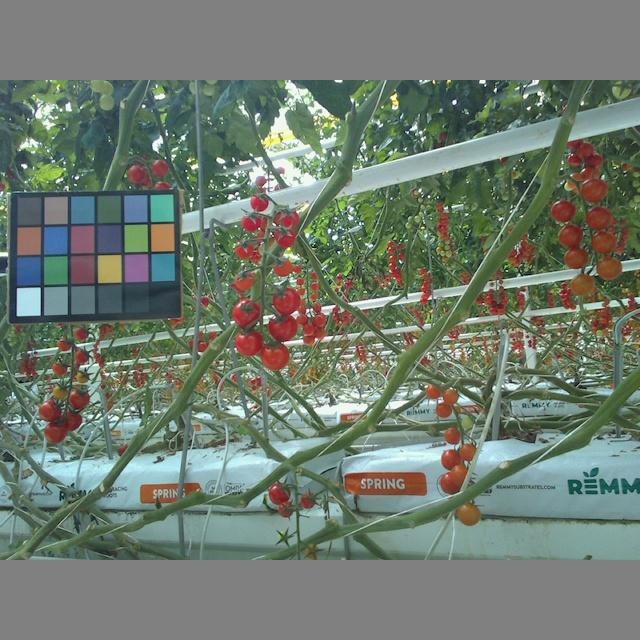pink: (453, 497, 482, 527), (583, 206, 612, 230), (582, 177, 609, 202), (550, 198, 576, 223), (590, 231, 617, 255), (595, 255, 623, 278), (561, 247, 590, 269), (570, 270, 595, 295), (449, 463, 470, 491), (556, 226, 582, 248), (439, 449, 463, 472), (443, 424, 461, 446), (459, 440, 476, 463), (440, 388, 460, 407), (435, 400, 453, 418), (425, 379, 440, 398)
red: (232, 298, 264, 330), (259, 339, 290, 372), (233, 327, 265, 357), (265, 312, 298, 341), (273, 286, 301, 316), (42, 422, 69, 444), (36, 402, 62, 423), (232, 270, 255, 292), (276, 226, 297, 249), (66, 389, 90, 409), (276, 208, 301, 227), (149, 157, 169, 179), (273, 257, 293, 278), (127, 166, 149, 185), (233, 238, 254, 257), (249, 194, 271, 212), (242, 212, 259, 233), (73, 347, 91, 364), (56, 334, 73, 352), (75, 326, 91, 343), (51, 361, 69, 374)
